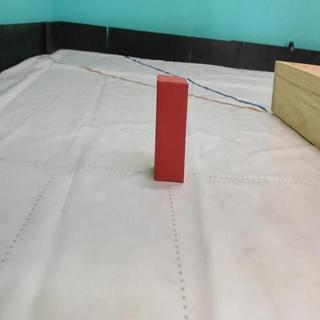redbox: (153, 74, 189, 182)
